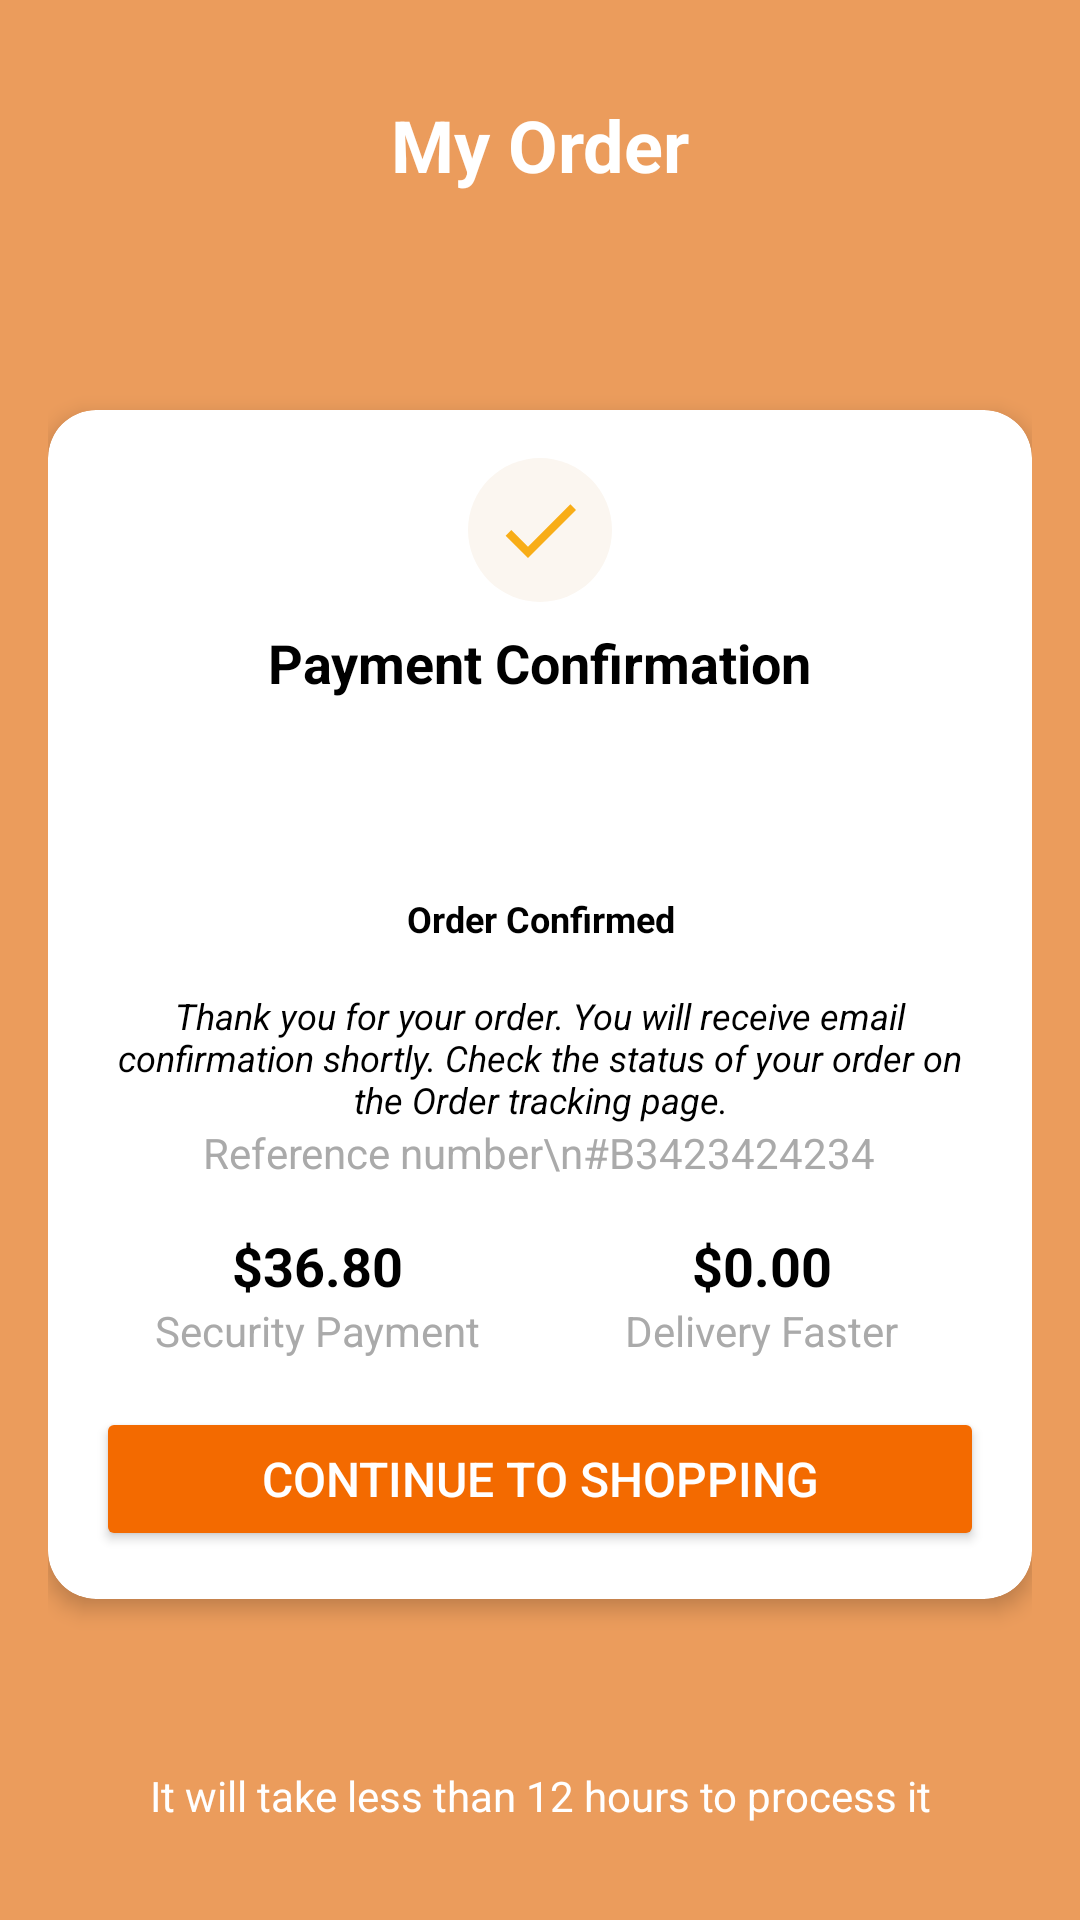

Named icons in this screenshot (1080x1920) and their centers, (x=x, y=y):
Payment Status: (x=540, y=530)
